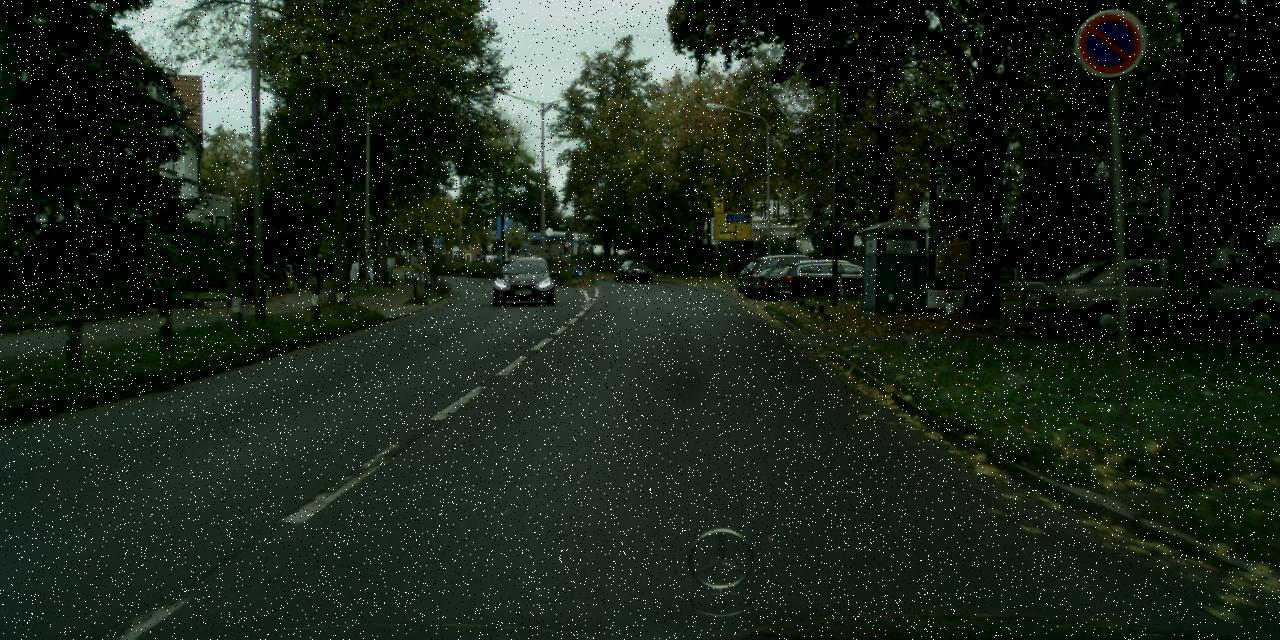ped: (312, 252, 326, 288)
